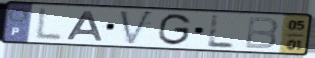A: (64, 10, 106, 43)
B: (243, 16, 281, 51)
G: (156, 12, 194, 47)
L: (32, 6, 65, 43), (205, 13, 237, 50)
V: (118, 10, 156, 48)
